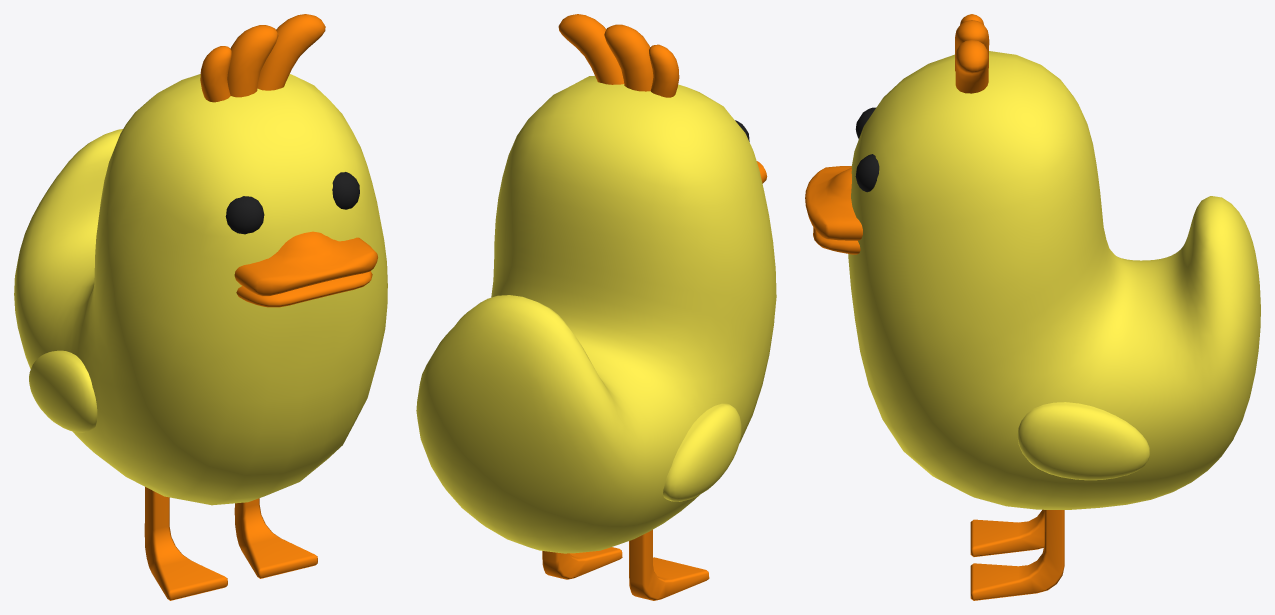
Rendered from Farm_14_Little_Duck_1.glb.
The picture shows the model from 3 angles, left to right: view 1: azimuth 30°, elevation 25°; view 2: azimuth 150°, elevation 25°; view 3: azimuth 270°, elevation 25°; orthographic projection. The views are drawn at different scales.
Visible parts, largest first — view 1: Farm_14_Little_Duck_1; view 2: Farm_14_Little_Duck_1; view 3: Farm_14_Little_Duck_1.
Part boxes in pixels (left/top/right/bottom): Farm_14_Little_Duck_1: left=14, top=14, right=387, bottom=600; Farm_14_Little_Duck_1: left=416, top=14, right=776, bottom=600; Farm_14_Little_Duck_1: left=805, top=14, right=1260, bottom=600.
Bounding box in the file's own units: 0.2234 × 0.4167 × 0.3121.
1 material, 1 textured.
